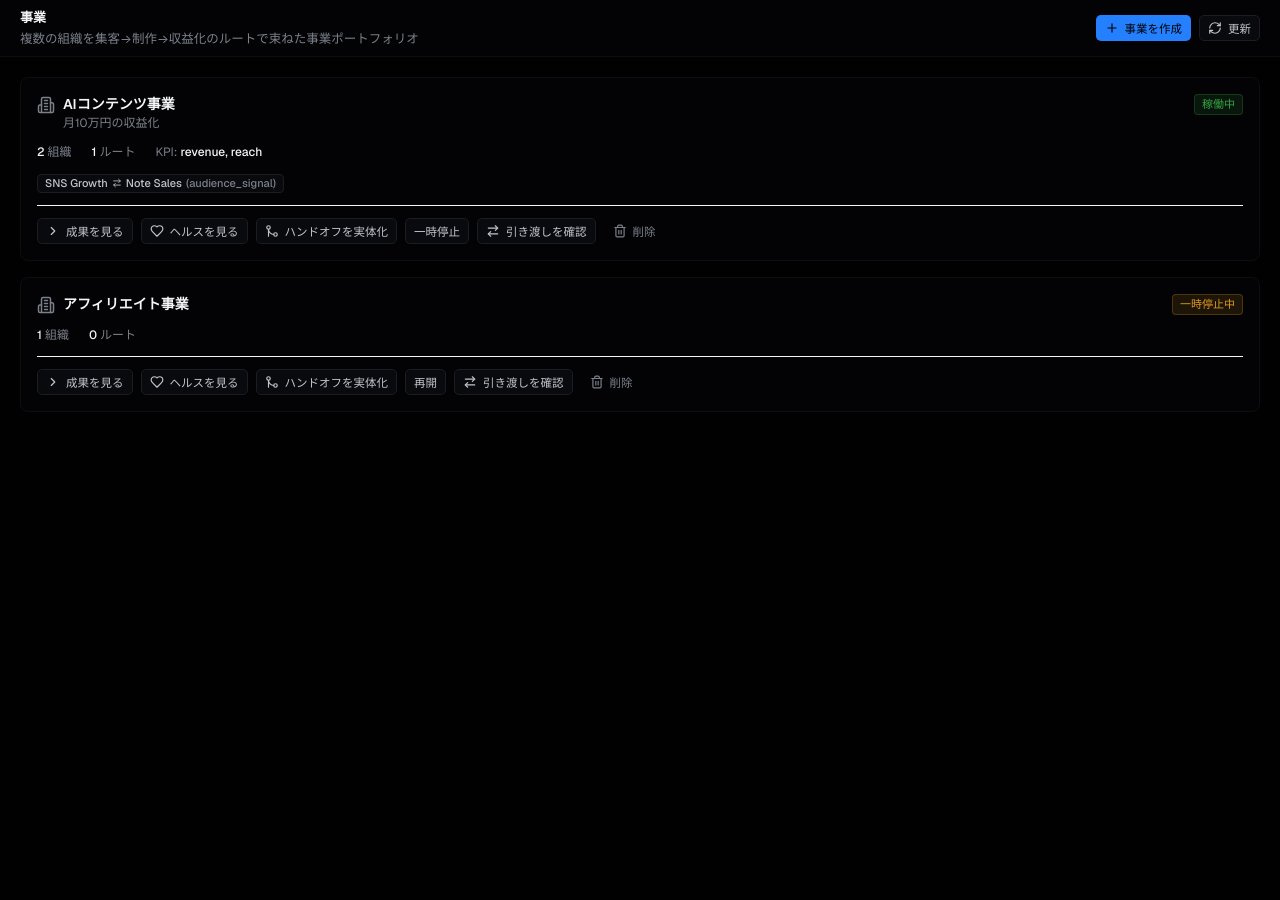
「成果を見る」ボタンで成果パネルを開く
Expected: the text "AIコンテンツ事業" is shown, [63,94,175,115]
Click the button "成果を見る" below "SNS Growth".
click(85, 231)  # box [37,218,132,244]
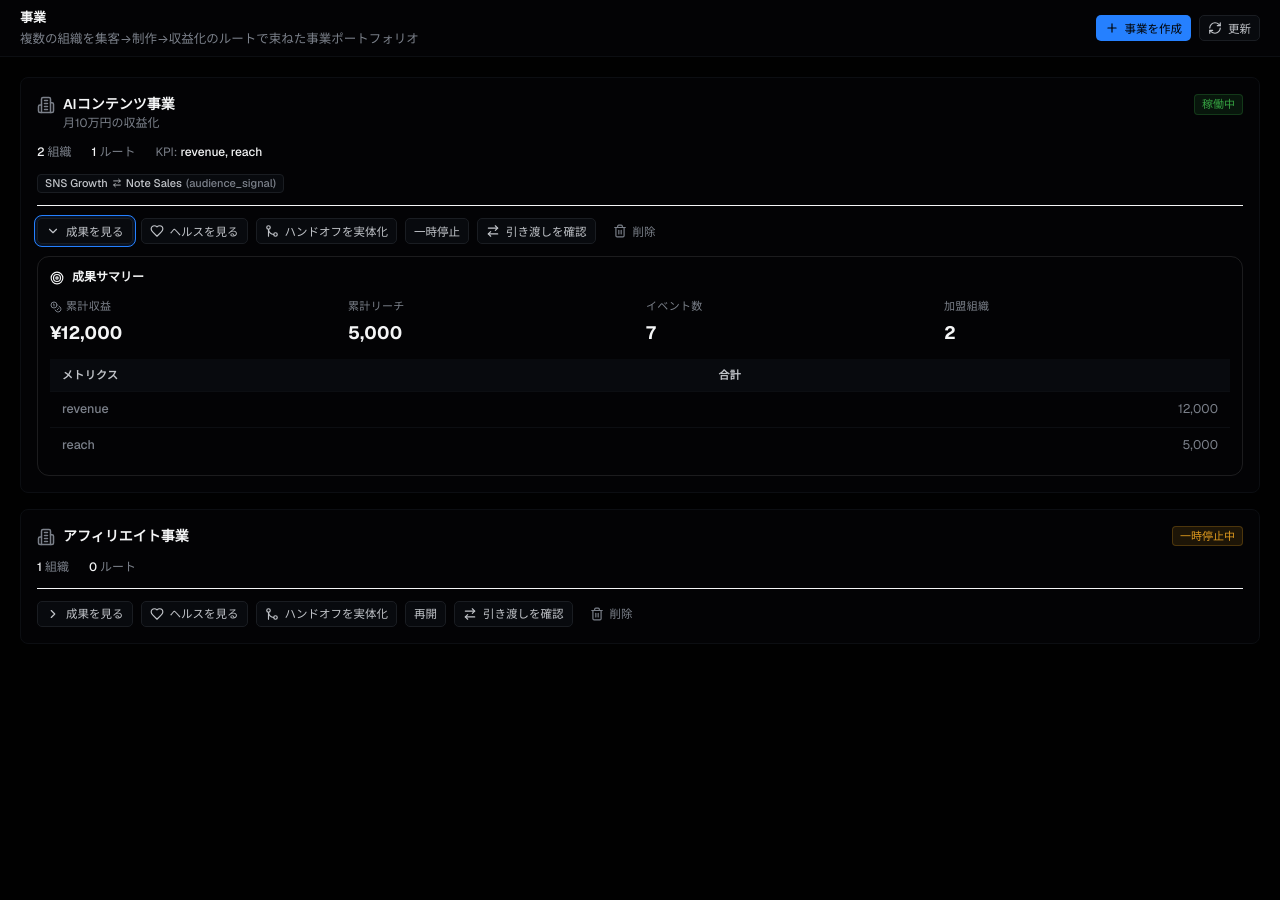
Expected: the text "成果サマリー" is shown, [50,269,144,285]
Expected: the text "¥12,000" is shown, [50,321,122,344]
